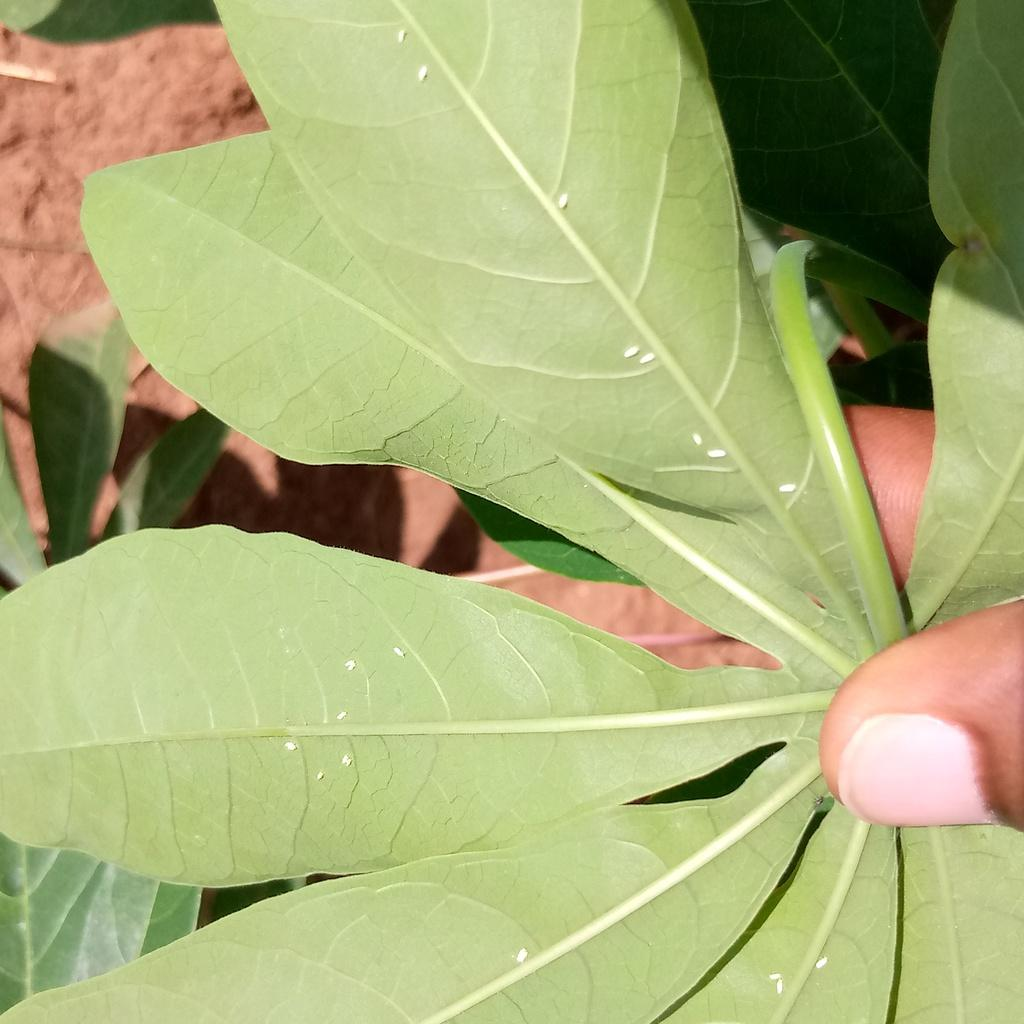adult: (623, 346, 640, 359), (639, 352, 656, 364), (814, 955, 828, 969), (516, 948, 528, 964), (417, 65, 428, 82), (558, 192, 569, 209), (707, 449, 727, 458), (779, 484, 796, 494), (692, 433, 703, 446), (344, 660, 356, 671), (341, 754, 352, 766), (284, 741, 297, 751), (393, 647, 405, 657), (398, 29, 406, 43), (776, 979, 783, 994), (336, 711, 347, 720), (769, 973, 781, 980), (316, 771, 324, 781)
